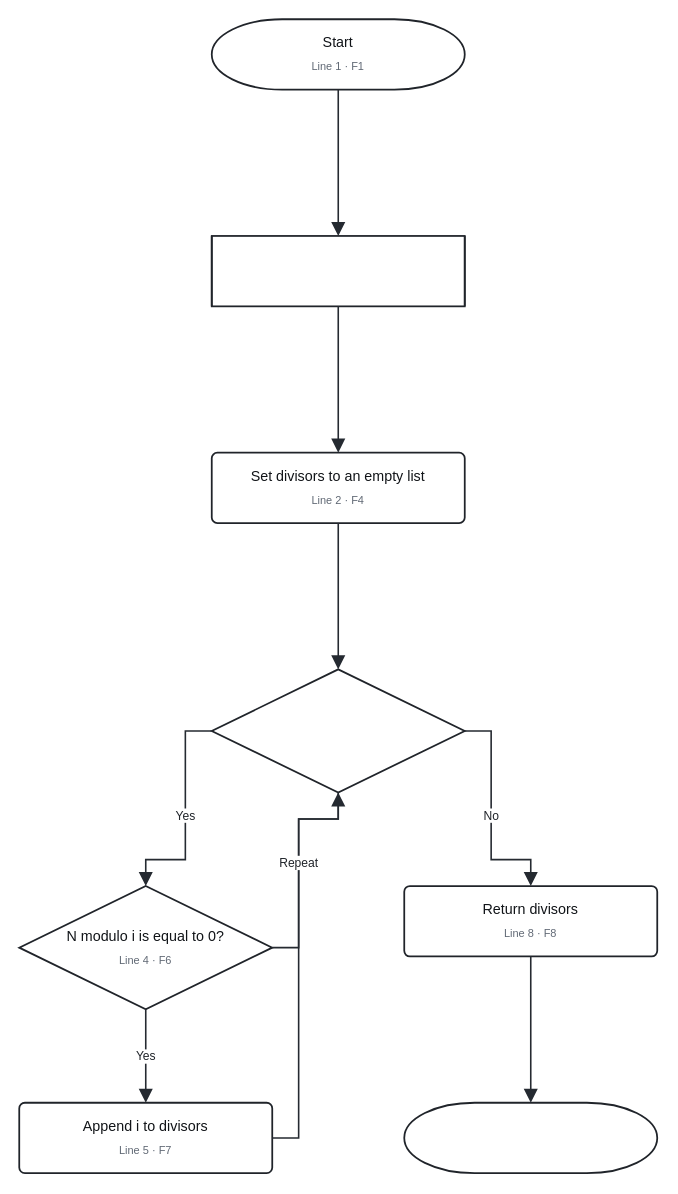
Image size: 678x1194. Some labels were removed from this diagram. Each missing label, with the centre of its shape:
"End Line 1 · F2" goes at point 530,1137.
"For i from 1 to n plus 1 Line 3 · F5" goes at point 337,730.
"Run function FIND_DIVISORS with n Line 1 · F3" goes at point 337,271.
